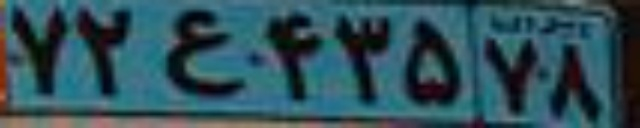2: (75, 6, 141, 97)
3: (334, 14, 392, 102)
4: (264, 13, 322, 99)
5: (401, 17, 460, 104)
7: (9, 4, 71, 97), (486, 35, 536, 114)
8: (545, 41, 606, 121)
ain: (161, 7, 247, 94)
